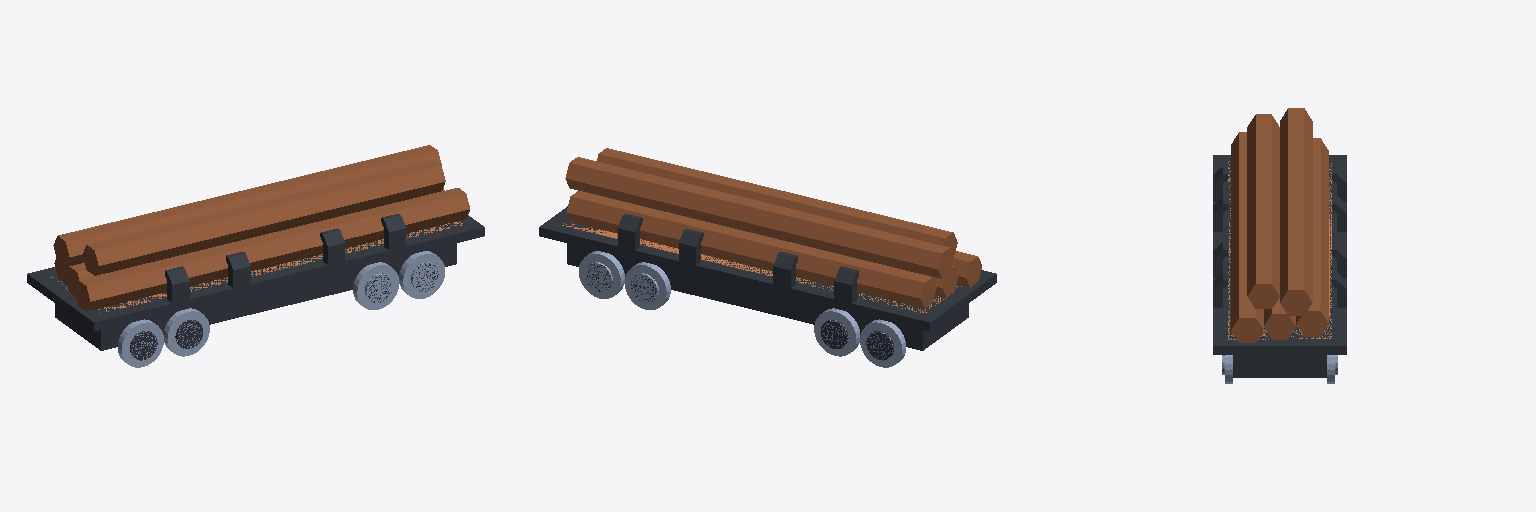
File: trainWagonFlat.obj
The picture shows the model from 3 angles: view 1: azimuth 30°, elevation 25°; view 2: azimuth 150°, elevation 25°; view 3: azimuth 270°, elevation 25°; orthographic projection.
Parts seen in each view (by area): view 1: log, trainWagonFlat, wheel; view 2: log, trainWagonFlat, wheel; view 3: log, trainWagonFlat, wheel.
Boxes of the visible parts, <box> form: log: <box>53,145,469,311</box>; trainWagonFlat: <box>27,214,484,350</box>; wheel: <box>118,251,444,367</box>; log: <box>565,148,981,308</box>; trainWagonFlat: <box>539,206,996,350</box>; wheel: <box>579,251,905,367</box>; log: <box>1231,108,1328,342</box>; trainWagonFlat: <box>1213,155,1346,377</box>; wheel: <box>1222,355,1337,383</box>.
Bounding box in the file's own units: 0.4484 × 0.1245 × 0.1327.